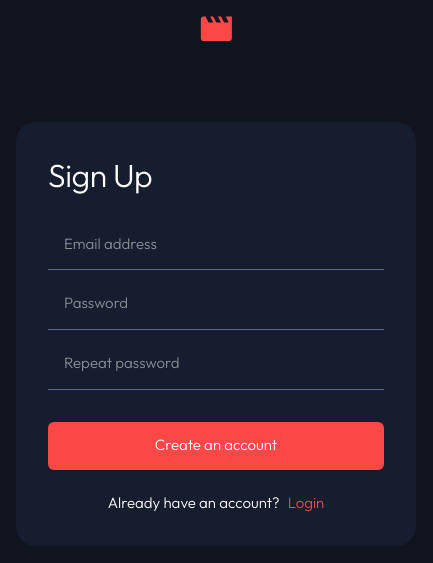
SignUpPage › checks password length and matching passwords
Expected: the button "Create an account" is shown, [48,422,384,470]
Type "qa1@example.com" into the field labelled "Email address" at (216, 244), box [64,235,368,253]
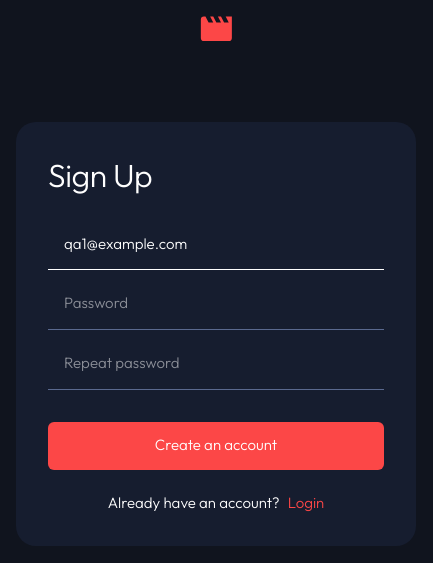
Type "short" into the password field labelled "Password" at (216, 304), box [64,294,368,313]
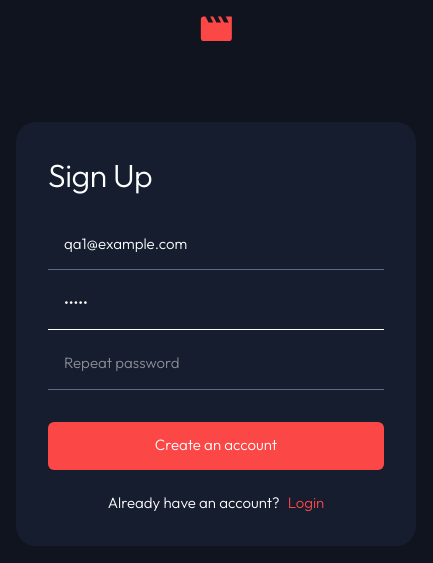
Type "different" into the password field labelled "Repeat password" at (216, 364), box [64,354,368,373]
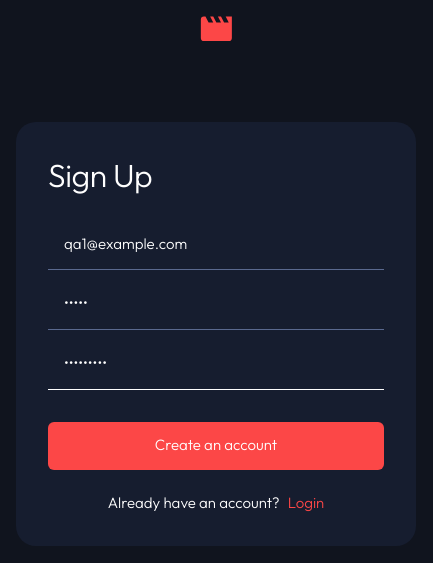
Click the button "Create an account" at (216, 446), box [48,422,384,470]
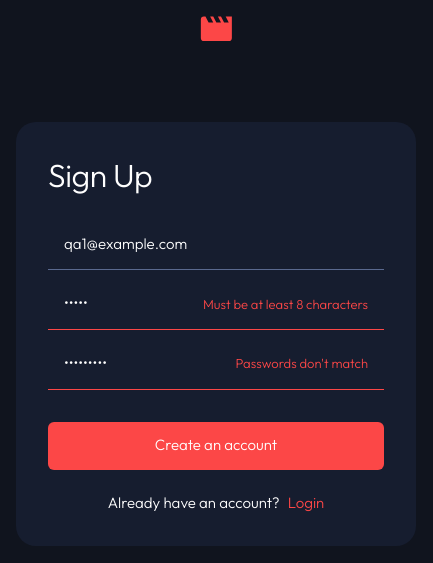
Expected: the text "Must be at least 8 characters" is shown, [203,296,368,312]
Expected: the text "Passwords don't match" is shown, [236,355,368,372]
